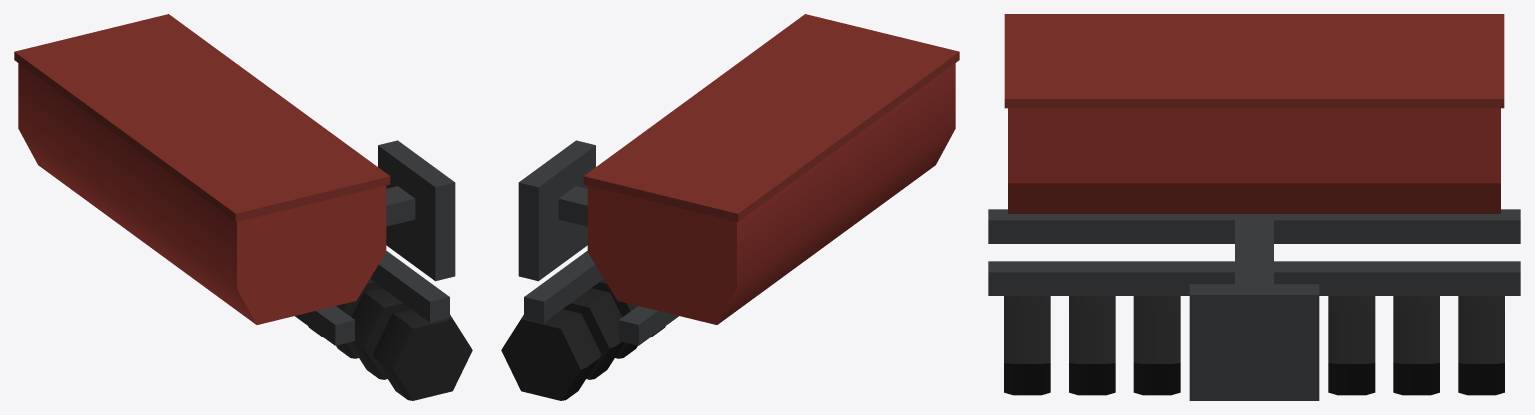
Rendered from SM_Prop_farm_drill_0_LOD2.glb.
3 views of the same model, side by side, from view 1: azimuth 30°, elevation 25°; view 2: azimuth 150°, elevation 25°; view 3: azimuth 270°, elevation 25° (orthographic). The views are drawn at different scales.
Parts seen in each view (by area): view 1: SM_Prop_farm_drill_0_LOD2; view 2: SM_Prop_farm_drill_0_LOD2; view 3: SM_Prop_farm_drill_0_LOD2.
Boxes of the visible parts, <box> form: SM_Prop_farm_drill_0_LOD2: <box>14,14,472,400</box>; SM_Prop_farm_drill_0_LOD2: <box>501,14,959,400</box>; SM_Prop_farm_drill_0_LOD2: <box>988,14,1520,400</box>.
Size of the model in its own units: 3.02 by 2.22 by 4.1.
